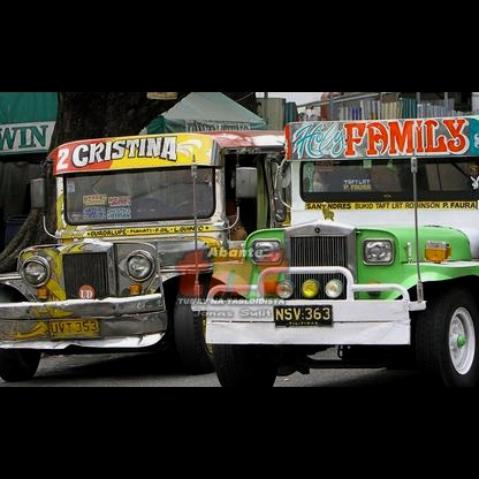jeepney: (194, 120, 479, 371), (0, 119, 259, 382)
